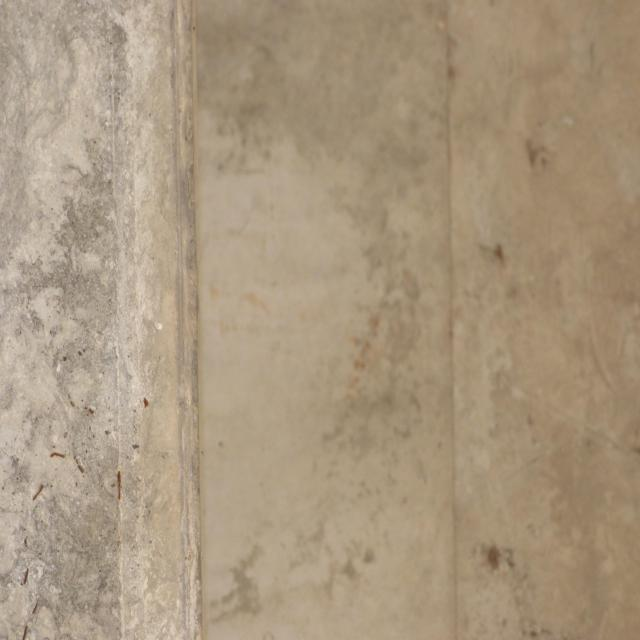Rebar: (0, 391, 150, 639)
